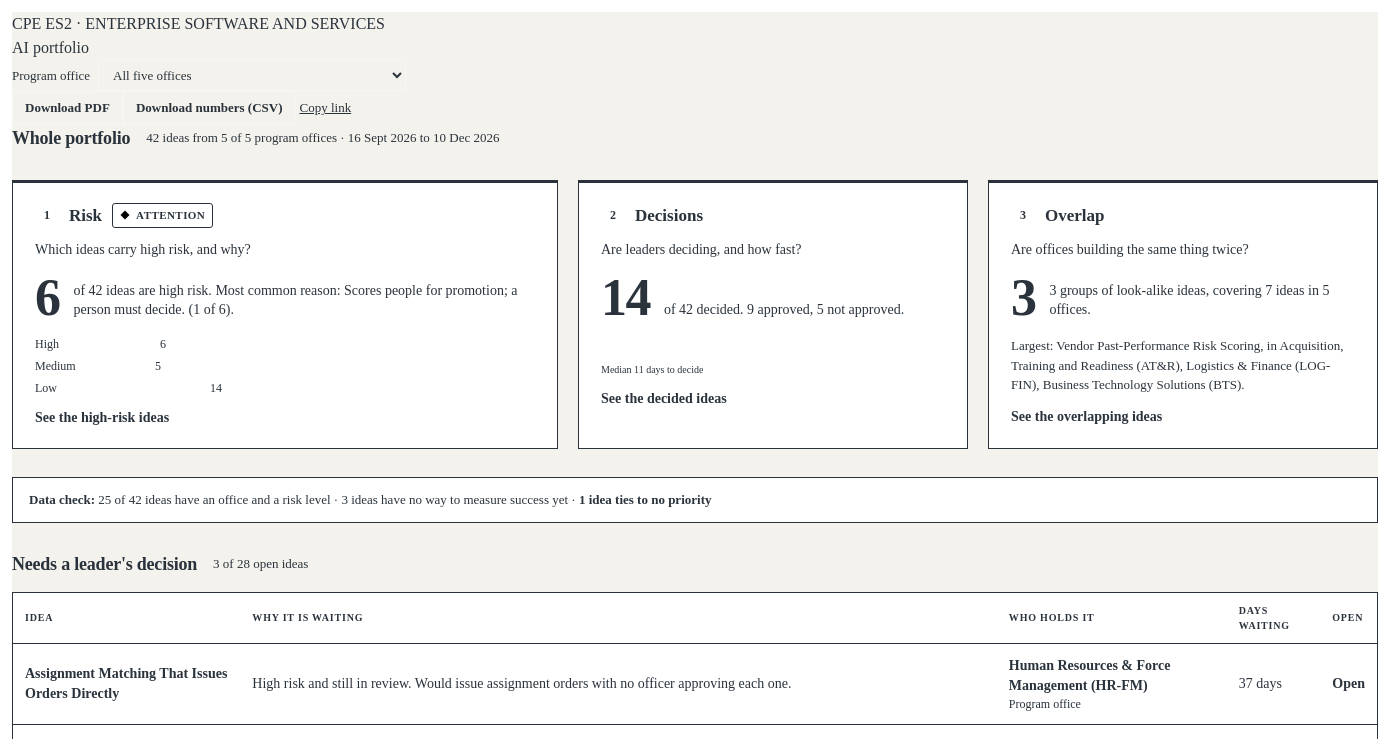
Test case: ReportScreen (ES2) › copies the address when Copy link is pressed
The width and height of the screenshot is (1378, 739).
Click the button "Copy link" at [325, 108], box [296,98,355,118]
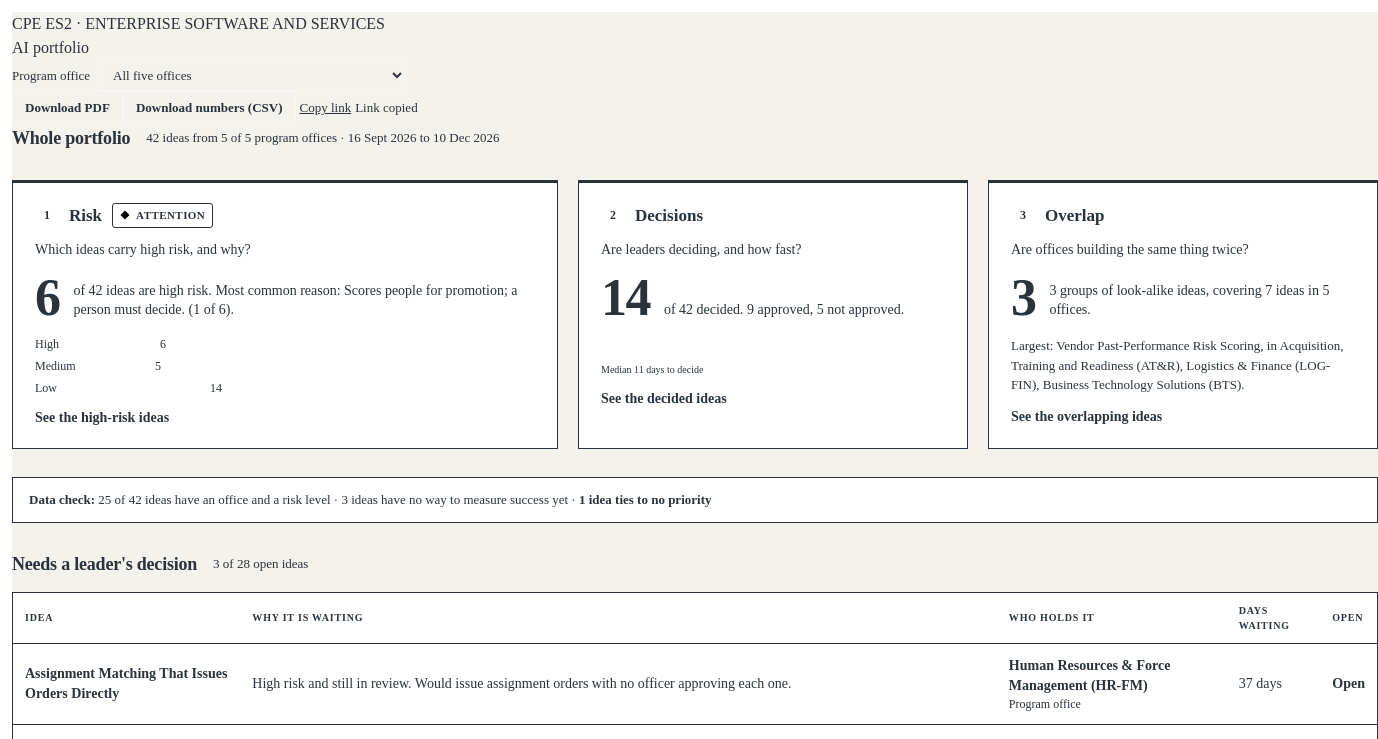
Expected: the text "Link copied" is shown, [355,100,418,115]
